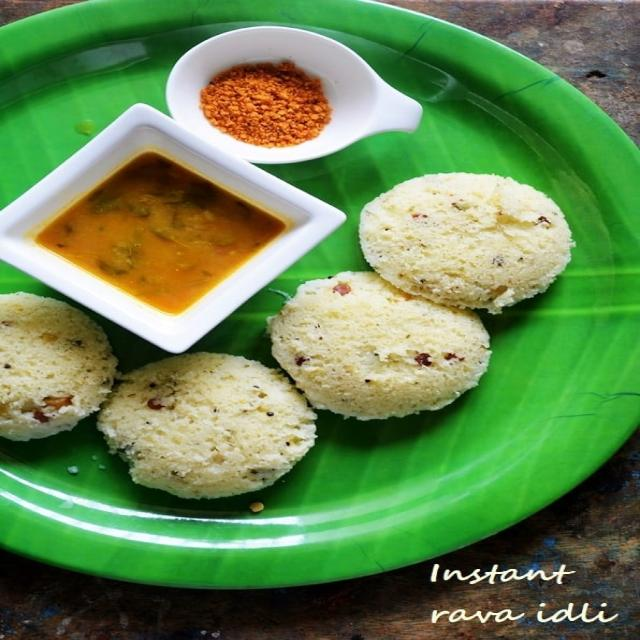rave idli: (256, 265, 502, 434), (97, 345, 323, 510), (358, 167, 590, 317), (0, 291, 118, 441)
